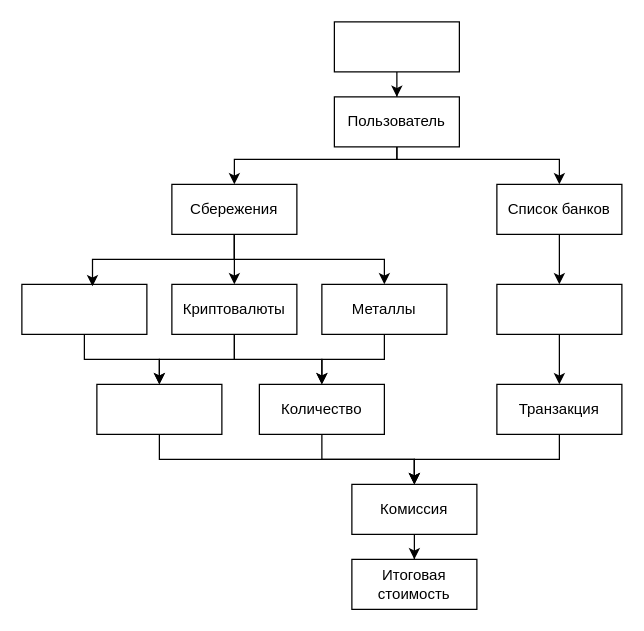
Image size: 644x631. Some labels were removed from this diagram. Here are the shapes that lost their labels. From the top down, the centre of each, then its label:
At (396,46): "UI".
At (84,308): "Валюты".
At (559,308): "Банк".
At (159,408): "Ценность".
